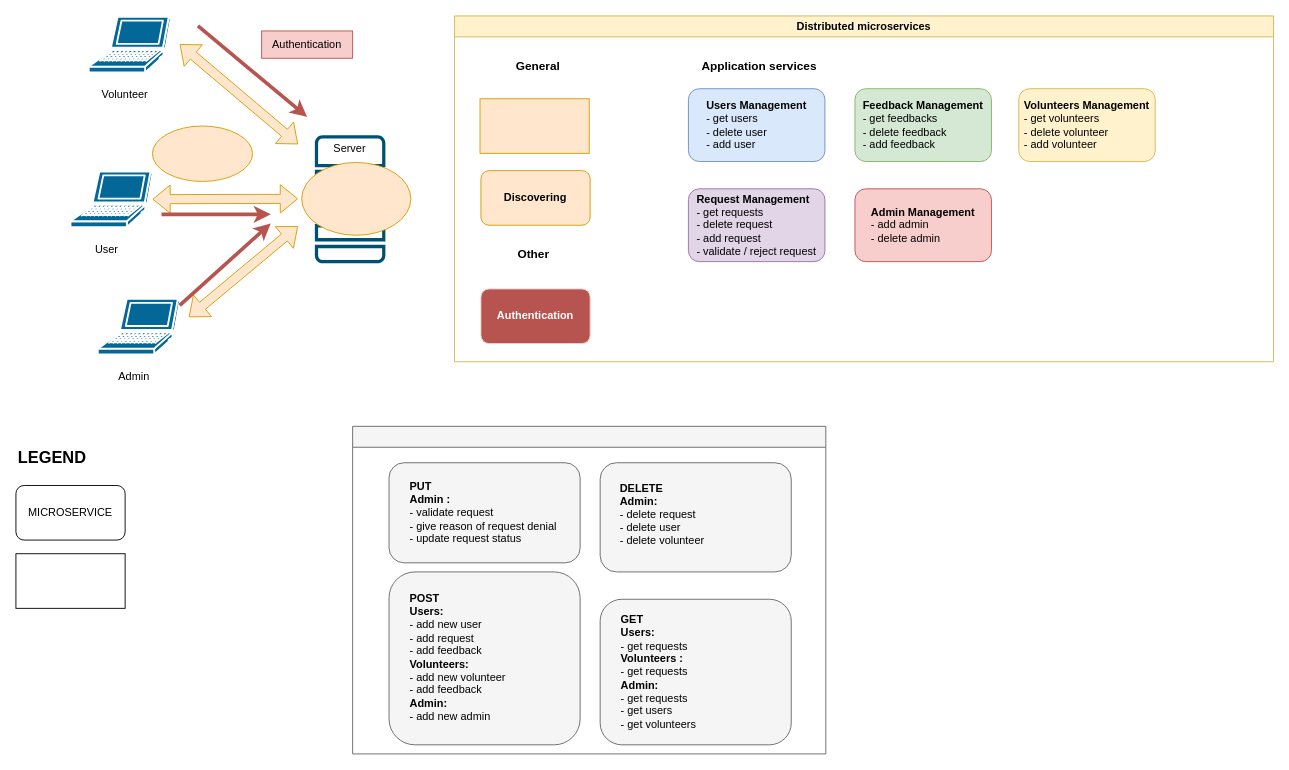
The diagram is 1289 pixels wide and 770 high, and some of its shapes have lost their labels. Here are the shapes that lost their labels. From the top down, the box of each, then its label:
(479, 98, 589, 153): Centralized Database
(152, 125, 253, 181): REST Requests and Responses
(301, 162, 411, 235): REST API
(15, 553, 125, 608): DATABASE
(352, 425, 826, 754): Reminder: REST methods of the API
